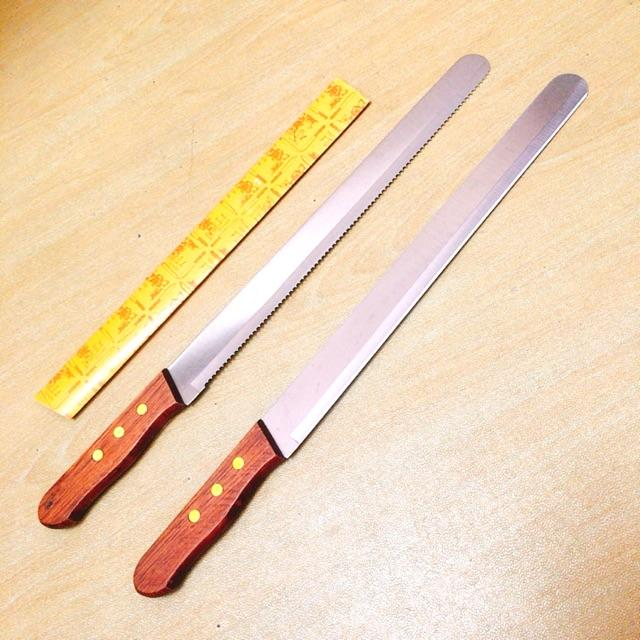Knife: (134, 74, 587, 595), (38, 54, 489, 527)
